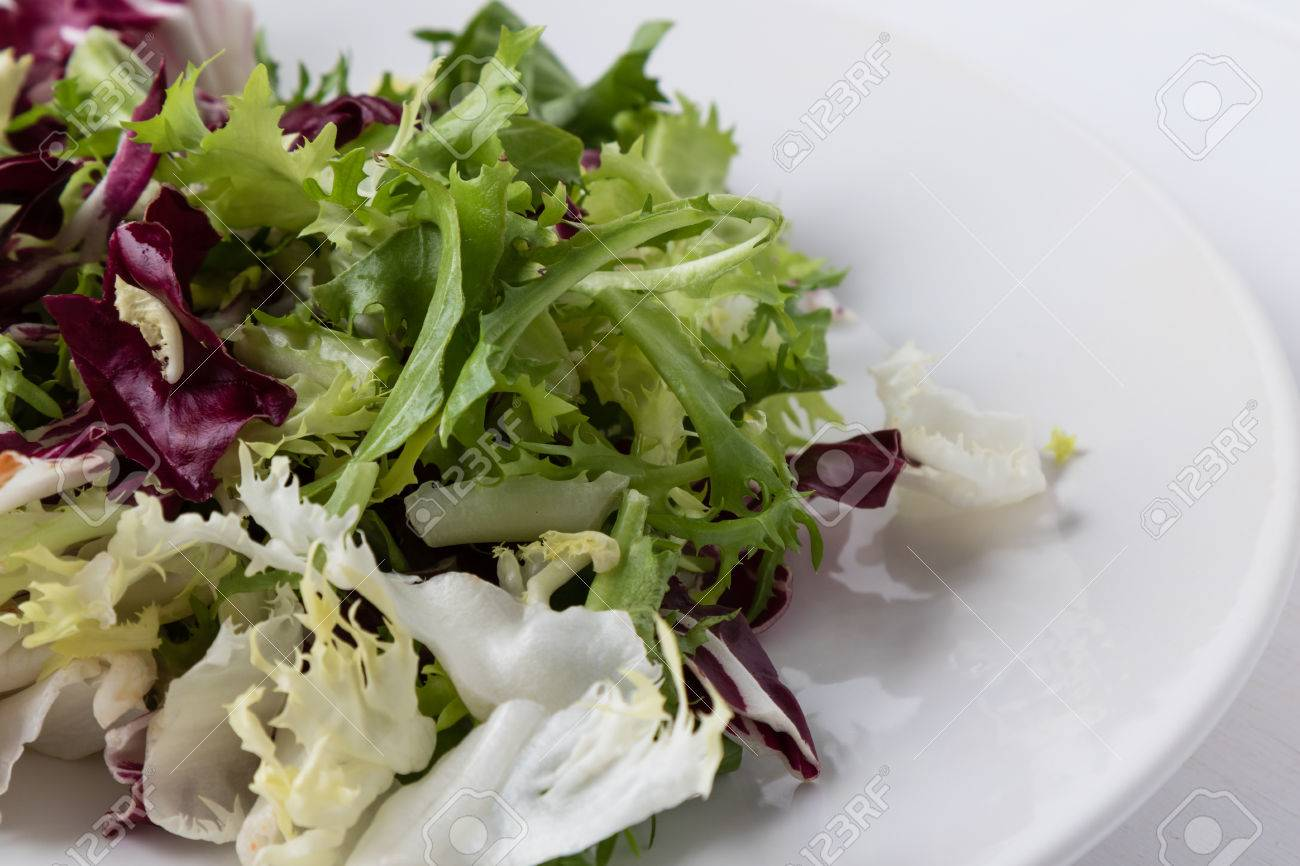chopped lettuce: (12, 24, 1102, 866)
